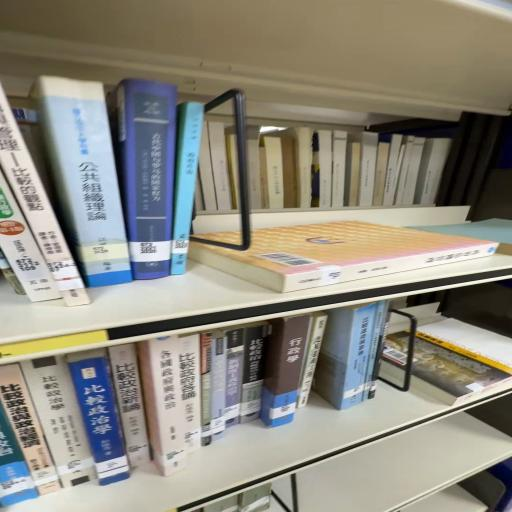flat: (190, 222, 499, 294), (412, 320, 512, 405), (385, 332, 410, 369)
